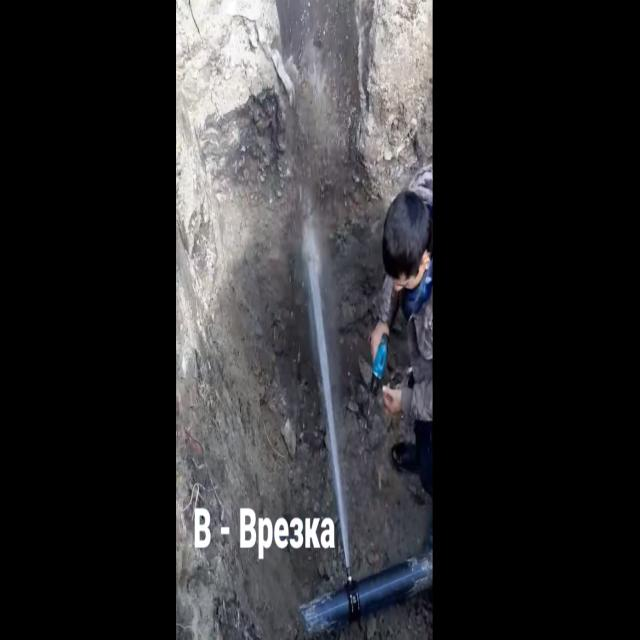leak: (302, 214, 350, 578)
